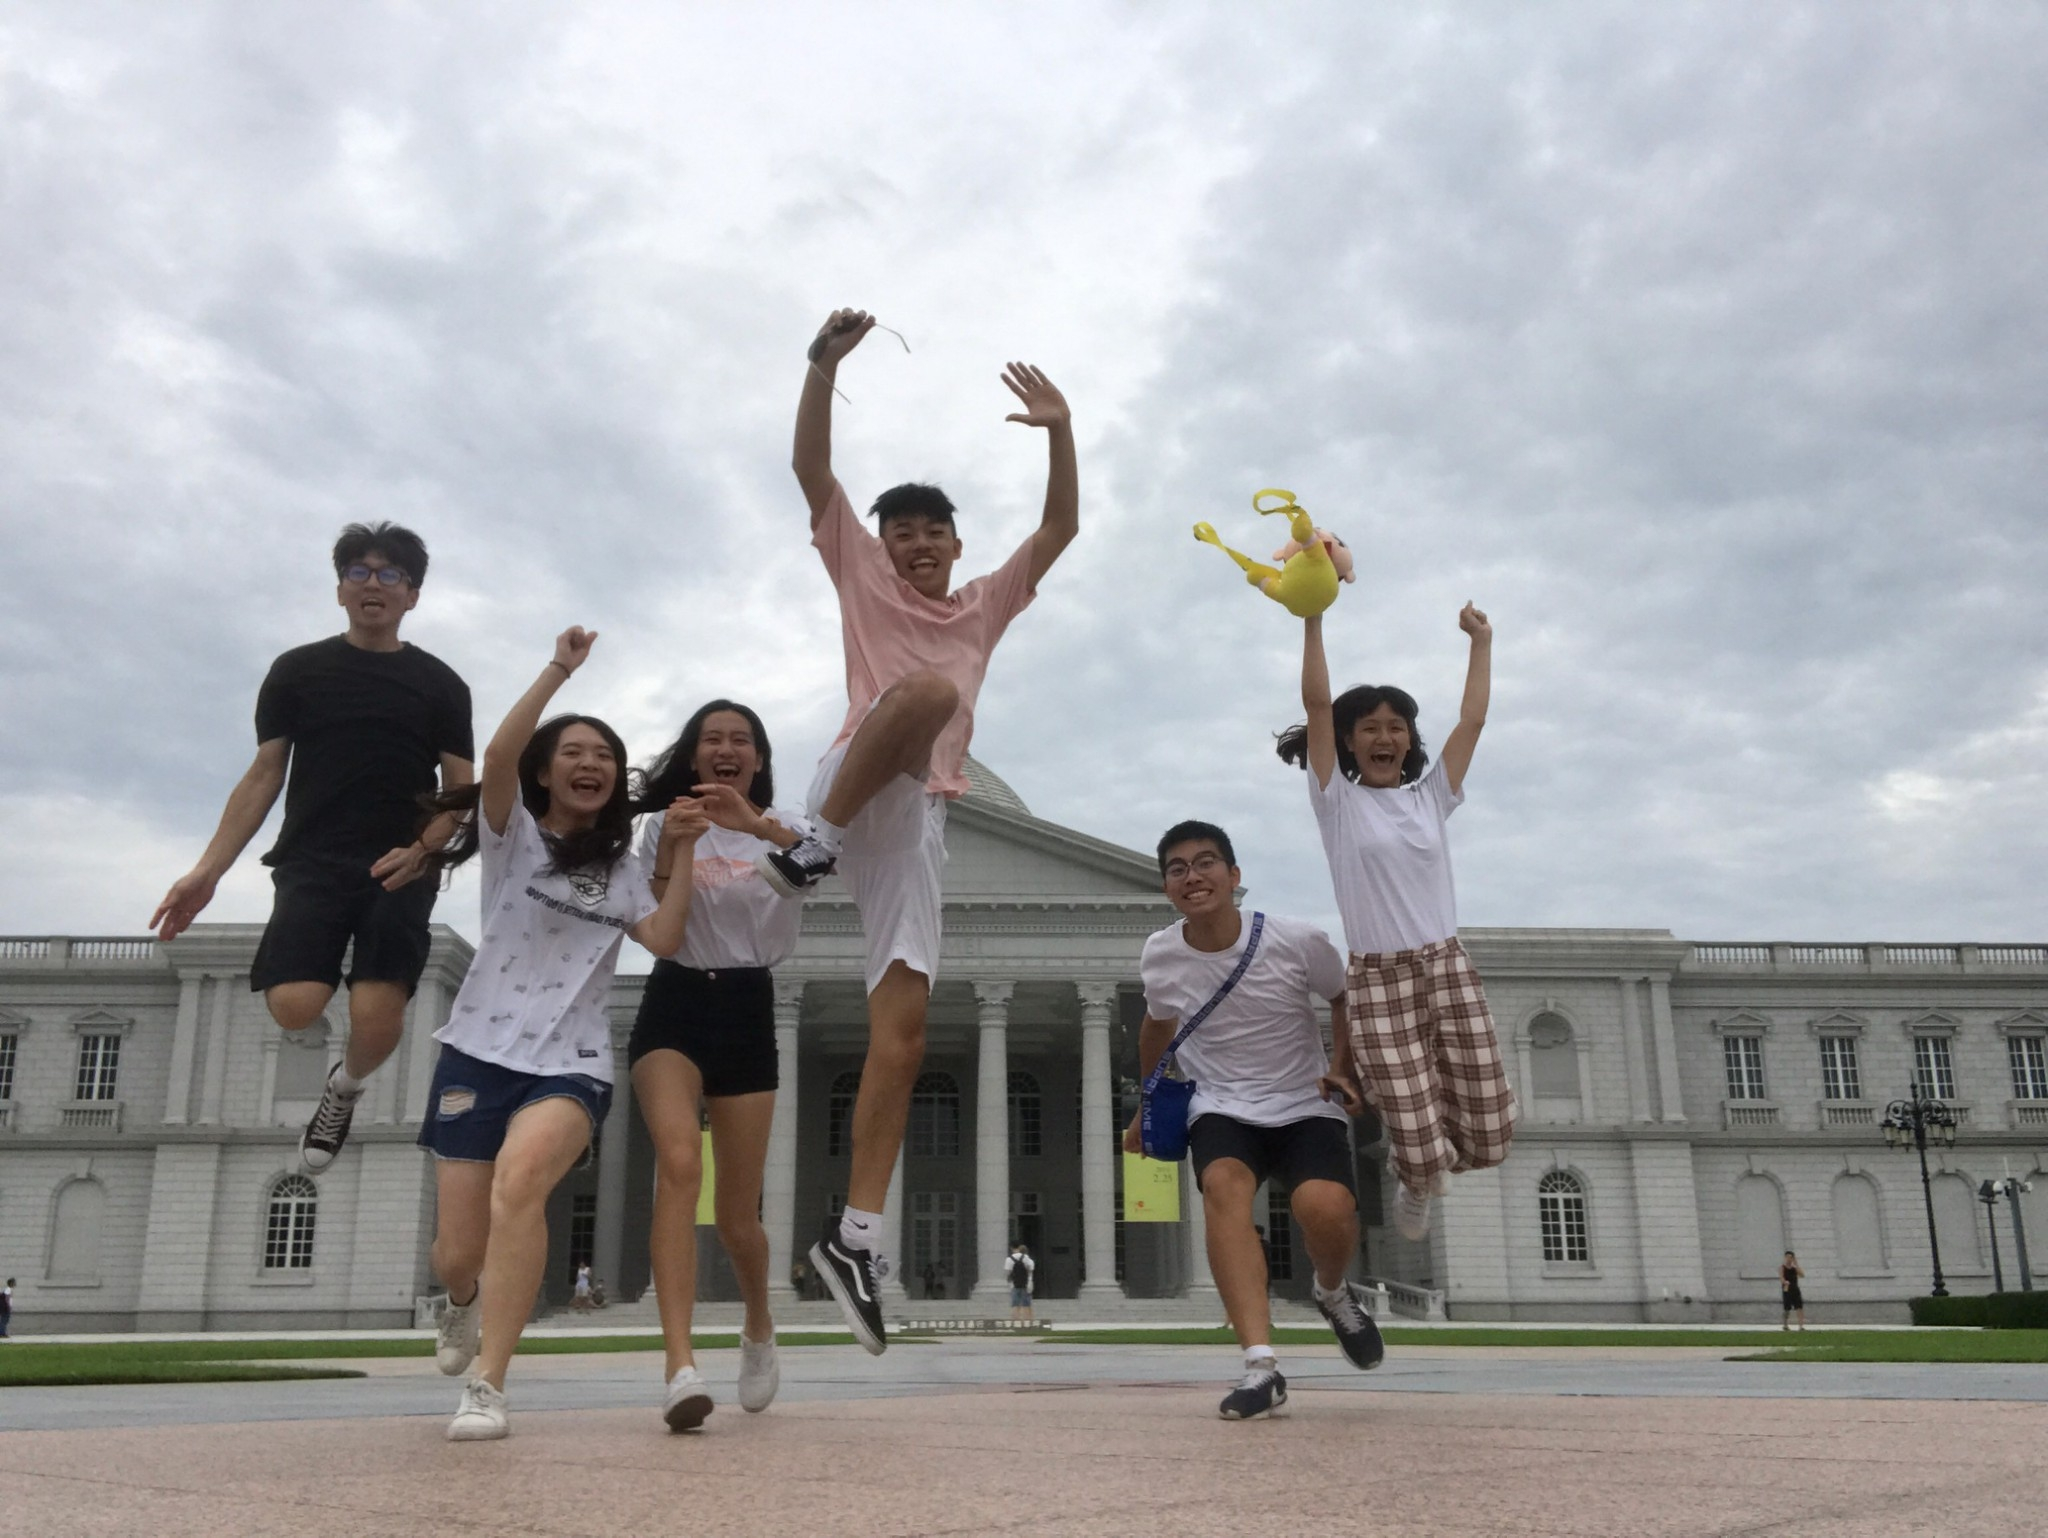people: (1128, 814, 1387, 1429), (822, 482, 990, 1367), (249, 523, 460, 1188), (1278, 676, 1537, 1214), (637, 694, 813, 1438), (469, 711, 637, 1447), (1002, 1250, 1043, 1320)
